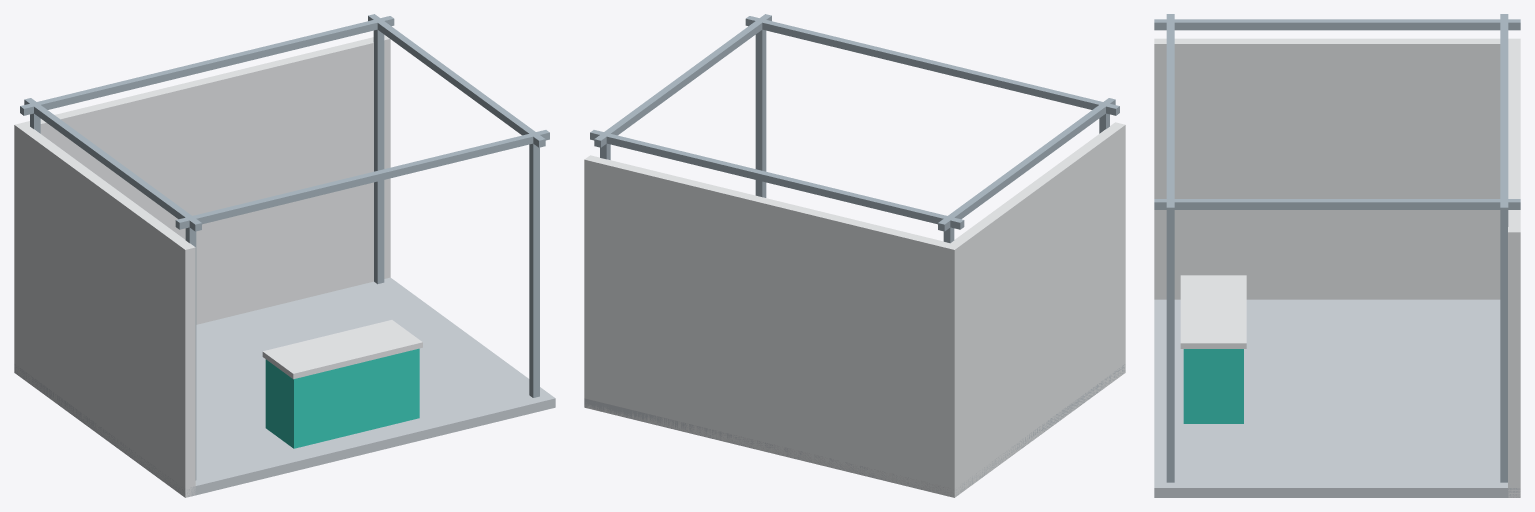
3 renders of one model, left to right at view 1: azimuth 30°, elevation 25°; view 2: azimuth 150°, elevation 25°; view 3: azimuth 270°, elevation 25°, orthographic. The views are drawn at different scales.
Visible parts, largest first — view 1: Exhibition Booth Concept; view 2: Exhibition Booth Concept; view 3: Exhibition Booth Concept.
Boxes of the visible parts, bbox=[...] form: Exhibition Booth Concept: bbox=[14, 14, 555, 497]; Exhibition Booth Concept: bbox=[584, 14, 1125, 497]; Exhibition Booth Concept: bbox=[1154, 14, 1520, 497].
Bounding box in the file's own units: 5 × 3.49 × 4.
